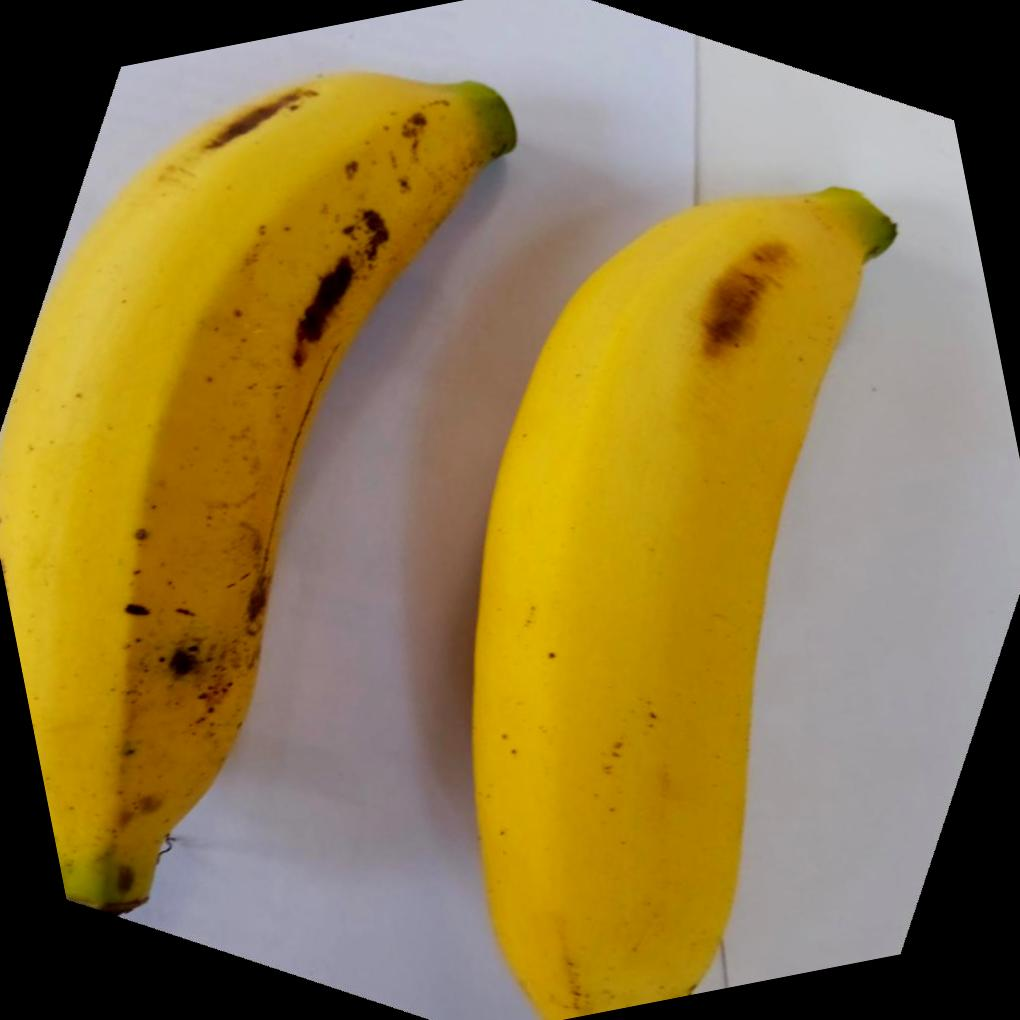Banana Ripe: (0, 33, 679, 1020), (363, 129, 1020, 1020)
